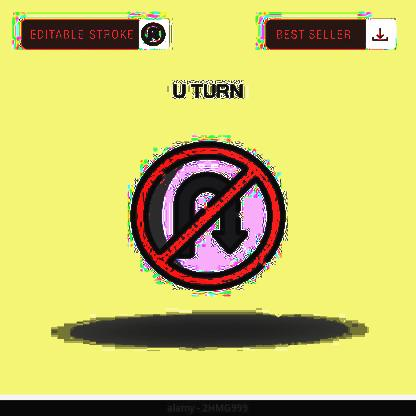No U-turn: (127, 135, 291, 298)
